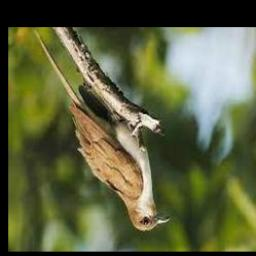Cuckoo: (35, 30, 171, 231)
